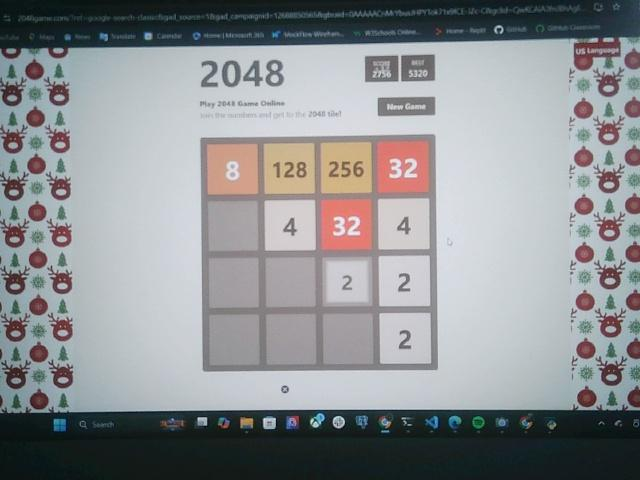board: (201, 136, 439, 372)
tile: (321, 142, 373, 194), (379, 313, 433, 363), (264, 144, 316, 195), (378, 141, 429, 193), (206, 144, 259, 194), (378, 199, 430, 249), (379, 256, 431, 306), (265, 201, 316, 251), (323, 199, 373, 249)
